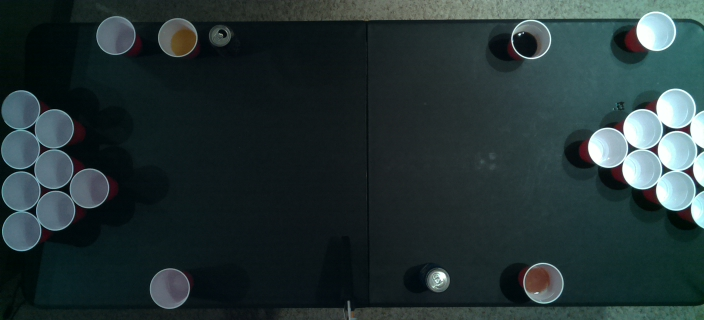active bp cup: (32, 148, 75, 190), (586, 126, 628, 168), (621, 108, 663, 150), (33, 108, 75, 149), (34, 189, 75, 231), (1, 210, 42, 252), (654, 88, 696, 129), (654, 170, 696, 211), (620, 149, 662, 190), (656, 130, 697, 171), (68, 168, 109, 208), (1, 89, 41, 130), (1, 171, 41, 211), (1, 130, 40, 170), (689, 110, 703, 148), (691, 150, 703, 189), (690, 192, 703, 228)
can: (422, 264, 451, 293), (206, 22, 232, 47)
drink cup: (521, 261, 564, 304), (509, 18, 552, 59), (156, 16, 198, 57)
inactive bp cup: (634, 10, 677, 52), (147, 268, 191, 309), (93, 15, 136, 55)
